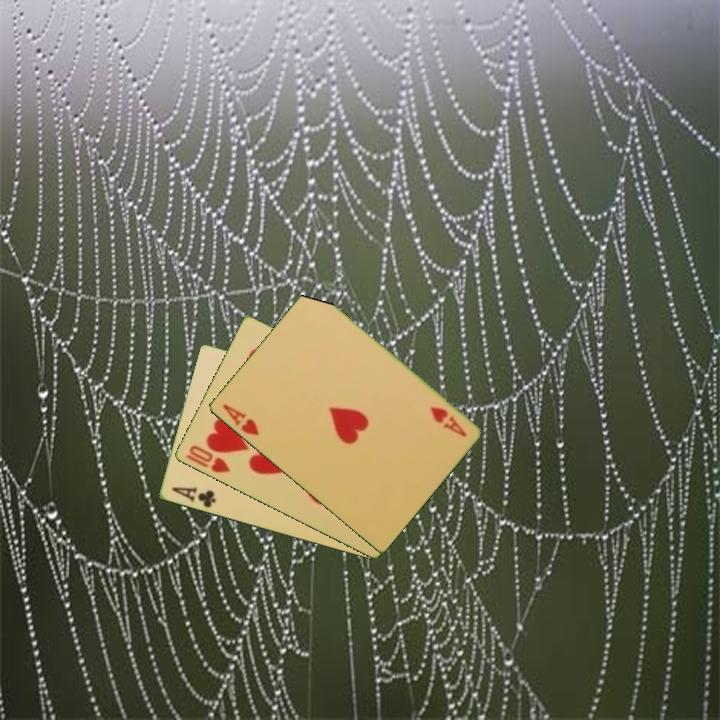10h: (182, 442, 233, 476)
Ac: (168, 483, 218, 511)
Ah: (218, 400, 262, 438), (426, 403, 469, 440)
